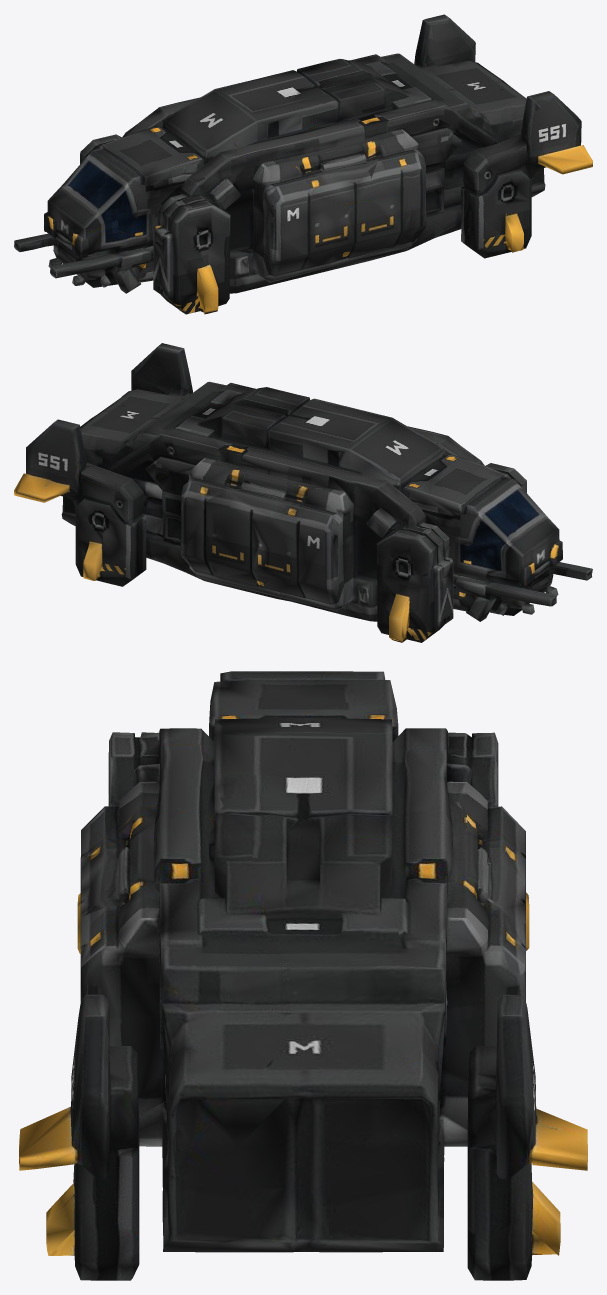
File: militech_av.glb
3 renders of one model, top to bottom at view 1: azimuth 30°, elevation 25°; view 2: azimuth 150°, elevation 25°; view 3: azimuth 270°, elevation 25°, orthographic. The views are drawn at different scales.
Parts seen in each view (by area): view 1: mesh_node; view 2: mesh_node; view 3: mesh_node.
Part boxes in pixels (x1,y1,x2,y2): mesh_node: (14,14,592,314); mesh_node: (14,343,592,642); mesh_node: (19,671,587,1280).
Bounding box in the file's own units: 1.9 × 0.5932 × 0.9552.
1 material, 1 textured.
